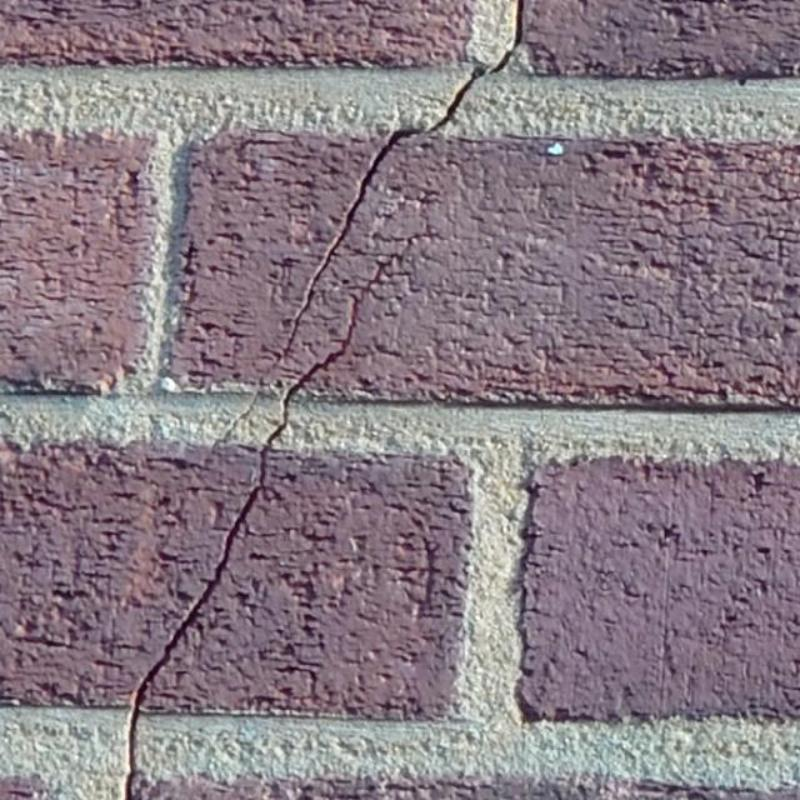crack: (123, 232, 444, 799), (212, 0, 521, 450)
